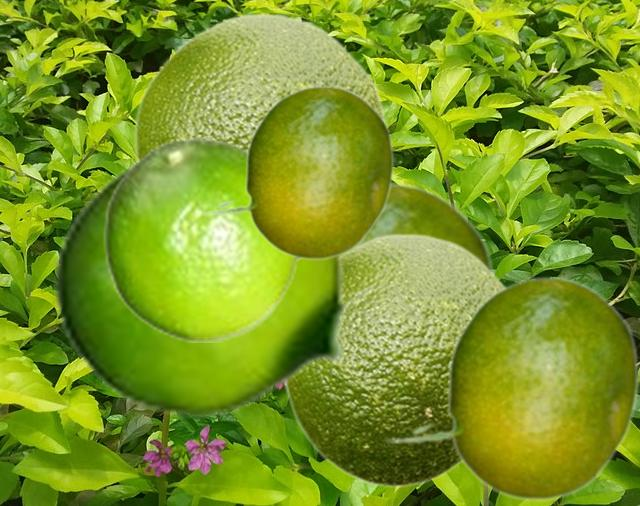calamansi: (52, 155, 378, 418), (133, 12, 386, 261), (383, 275, 638, 500), (283, 232, 505, 488), (282, 181, 495, 394), (103, 136, 300, 341), (195, 84, 393, 259)
